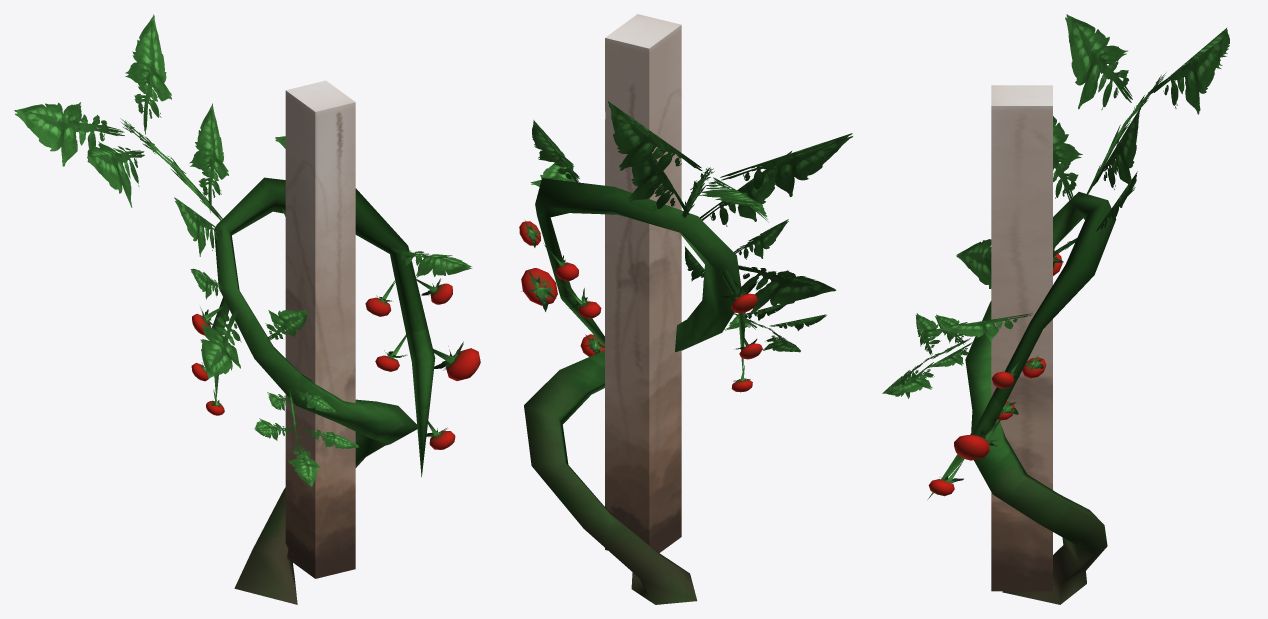
Rendered from tomato_stage2.FBX.
3 views of the same model, side by side, from view 1: azimuth 30°, elevation 25°; view 2: azimuth 150°, elevation 25°; view 3: azimuth 270°, elevation 25° (orthographic). The views are drawn at different scales.
Visible parts, largest first — view 1: tomato_stage2; view 2: tomato_stage2; view 3: tomato_stage2.
Part boxes in pixels (box(x1,y1,x2,y2)): tomato_stage2: box(14, 14, 480, 604); tomato_stage2: box(519, 14, 852, 604); tomato_stage2: box(882, 14, 1229, 604).
Bounding box in the file's own units: 2.24 × 3.21 × 2.
1 material, 1 textured.
